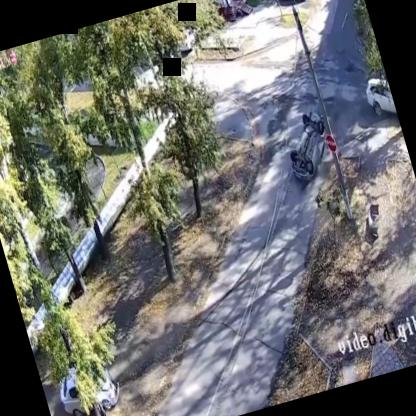accident: (47, 344, 133, 416), (276, 95, 340, 188)
